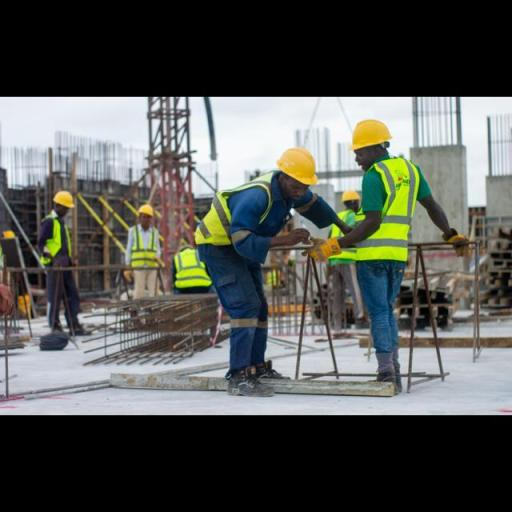Person: (290, 102, 472, 396), (177, 138, 361, 406), (31, 172, 104, 346), (315, 175, 381, 336), (111, 189, 165, 318), (156, 222, 228, 316)
boots: (207, 364, 276, 402), (380, 336, 422, 396), (358, 344, 402, 398), (238, 356, 294, 386)
gloves: (300, 226, 354, 267), (438, 226, 483, 265), (120, 254, 137, 284)
helmet: (272, 143, 324, 190), (344, 115, 404, 155), (133, 192, 163, 222), (332, 183, 366, 208), (49, 186, 75, 215)
vest: (317, 153, 429, 272), (172, 160, 288, 265), (164, 239, 225, 299), (34, 208, 88, 270), (324, 203, 370, 267), (124, 210, 168, 273), (258, 254, 288, 292)
